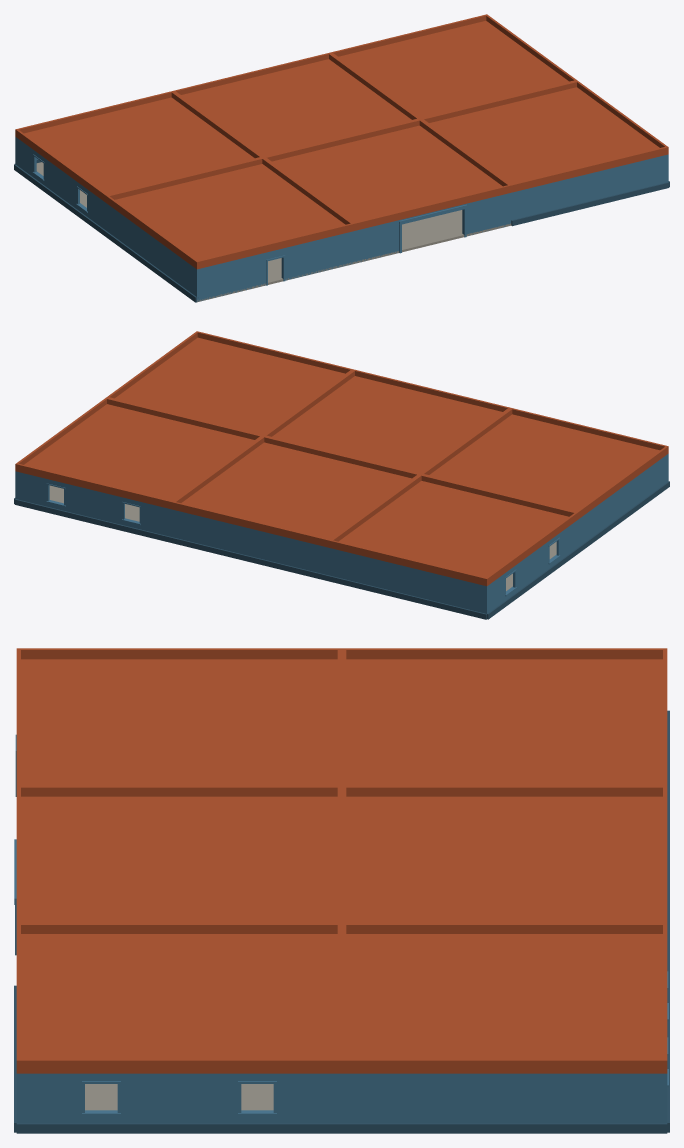
File: warehouse_metal.glb
3 views of the same model, one above another, from view 1: azimuth 30°, elevation 25°; view 2: azimuth 150°, elevation 25°; view 3: azimuth 270°, elevation 25° (orthographic). The views are drawn at different scales.
Visible parts, largest first — view 1: warehouse_metal; view 2: warehouse_metal; view 3: warehouse_metal.
Part boxes in pixels (x1=…): warehouse_metal: x1=14, y1=14, x2=669, y2=302; warehouse_metal: x1=14, y1=331, x2=669, y2=619; warehouse_metal: x1=14, y1=648, x2=669, y2=1133.
Size of the model in its own units: 45.26 by 3.66 by 30.26.
